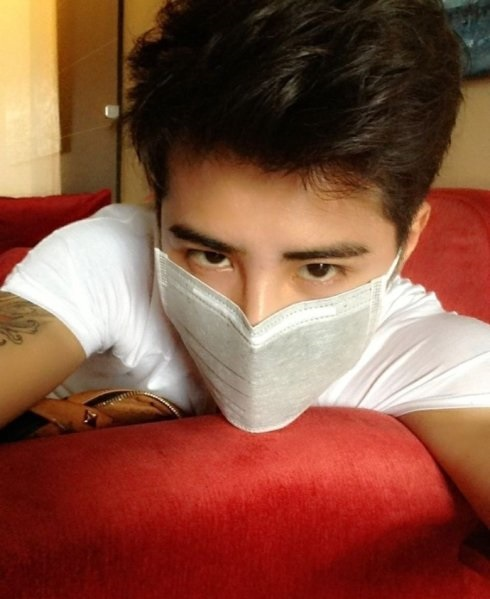face_mask: (163, 118, 396, 430)
